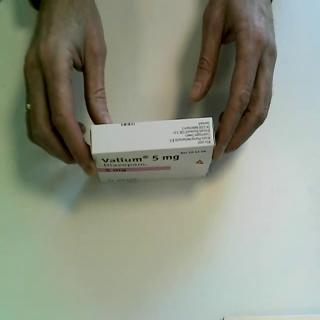valium5mg: (89, 116, 217, 186)
